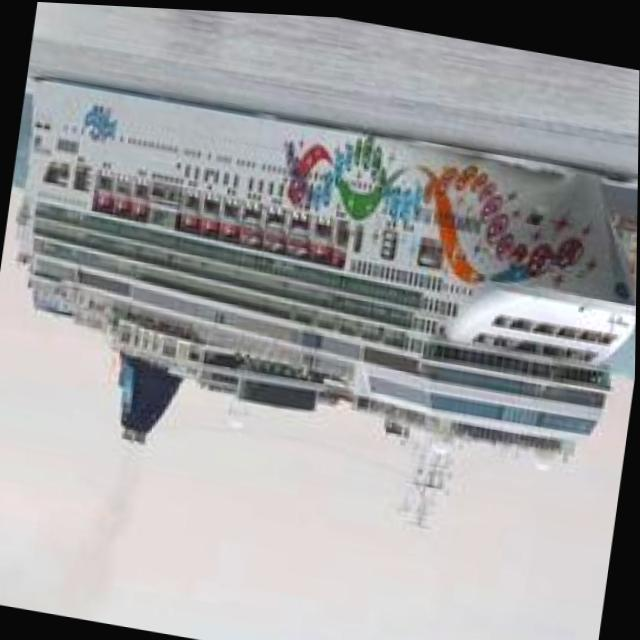ship2: (15, 75, 637, 523)
